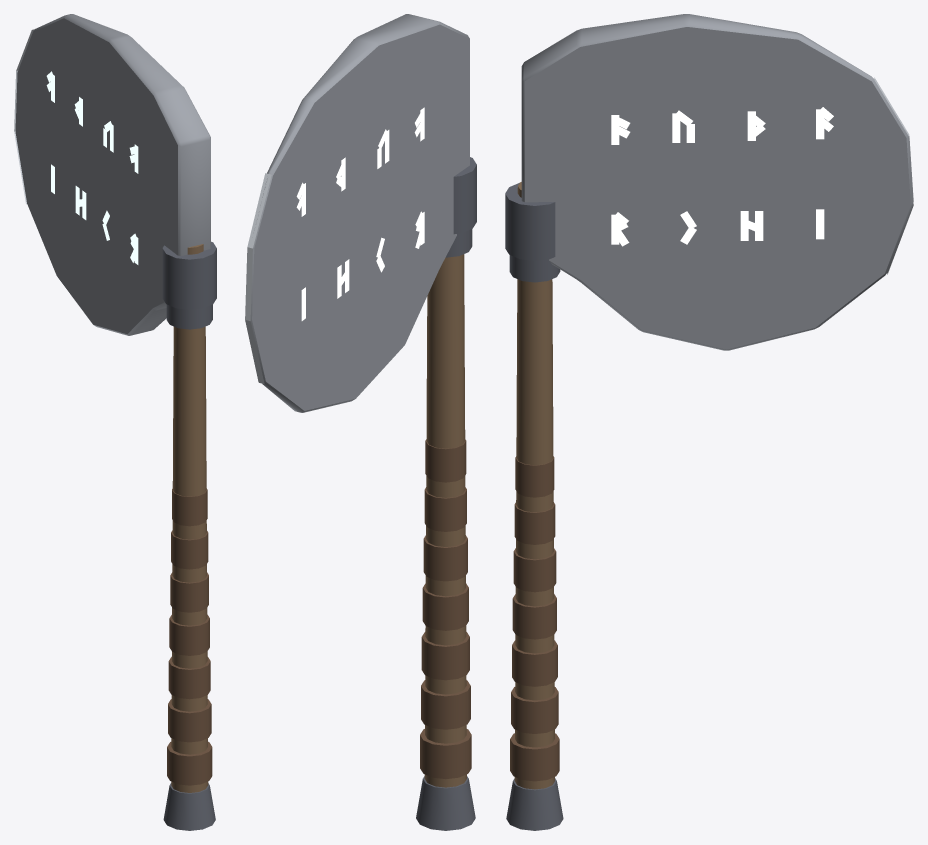
Rendered from axe.glb.
The picture shows the model from 3 angles, left to right: view 1: azimuth 30°, elevation 25°; view 2: azimuth 150°, elevation 25°; view 3: azimuth 270°, elevation 25°; orthographic projection. The views are drawn at different scales.
Parts seen in each view (by area): view 1: AxeHead, AxeGrip, AxeHaft, AxeCollar, AxePommel, AxeRunes; view 2: AxeHead, AxeGrip, AxeHaft, AxePommel, AxeCollar, AxeRunes, AxeEdge; view 3: AxeHead, AxeGrip, AxeHaft, AxeCollar, AxeRunes, AxePommel.
Part boxes in pixels (x1,y1,x2,y2): AxeHead: (15,14,210,335); AxeGrip: (167,488,212,785); AxeHaft: (171,244,208,792); AxeCollar: (162,241,216,329); AxePommel: (163,783,215,830); AxeRunes: (46,71,138,264); AxeHead: (250,14,469,412); AxeGrip: (420,439,471,779); AxeHaft: (424,254,466,787); AxePommel: (416,776,475,830); AxeCollar: (445,157,476,257); AxeRunes: (296,107,424,320); AxeEdge: (245,173,271,383); AxeHead: (521,14,913,350); AxeGrip: (510,456,559,781); AxeHaft: (514,182,554,789); AxeCollar: (505,182,560,282); AxeRunes: (611,107,833,246); AxePommel: (506,778,563,830).
Size of the model in its own units: 0.054 by 0.8016 by 0.371.
